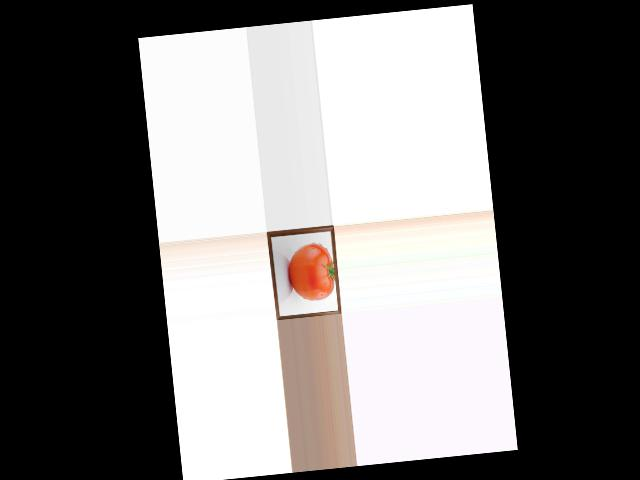tomato: (285, 241, 337, 302)
